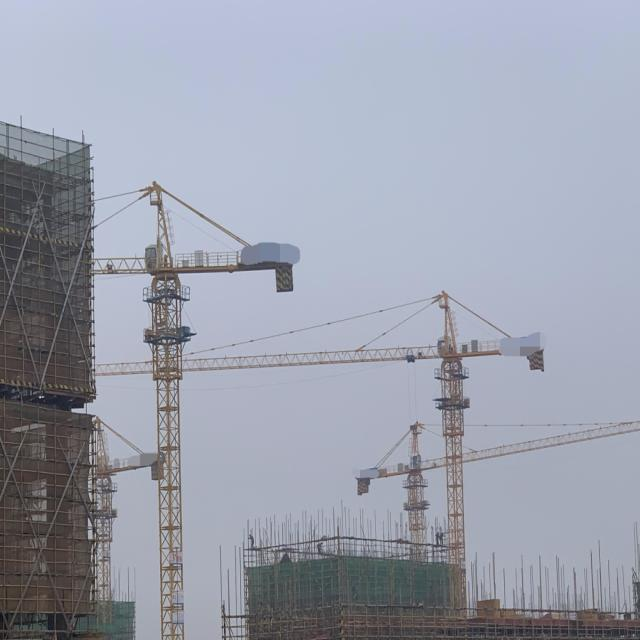crane: (91, 290, 544, 617), (91, 180, 293, 639), (355, 420, 640, 562), (95, 416, 158, 640)
